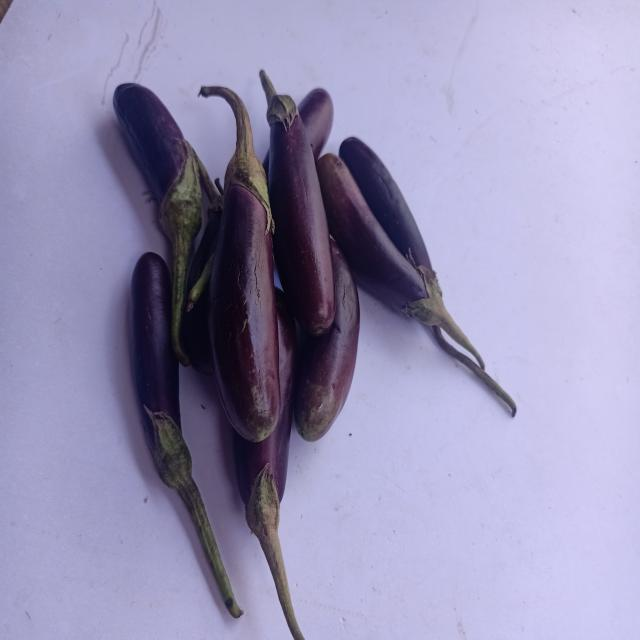Brinjal: (118, 198, 253, 628), (315, 149, 489, 372), (198, 79, 285, 444), (109, 77, 211, 372), (250, 43, 338, 337), (340, 128, 445, 300), (292, 236, 363, 454)
